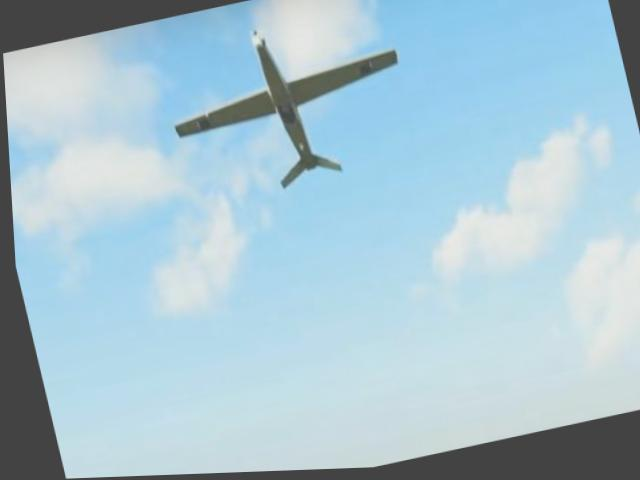iha: (151, 2, 428, 213)
